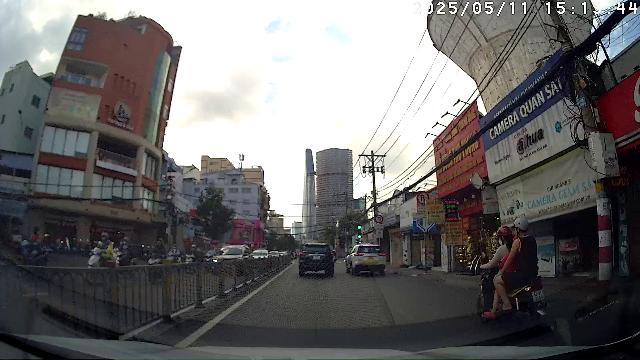103c-cam-oto-re-trai: (374, 215, 384, 223)
124b-cam-oto-quay-dau-xe: (416, 192, 429, 205)
